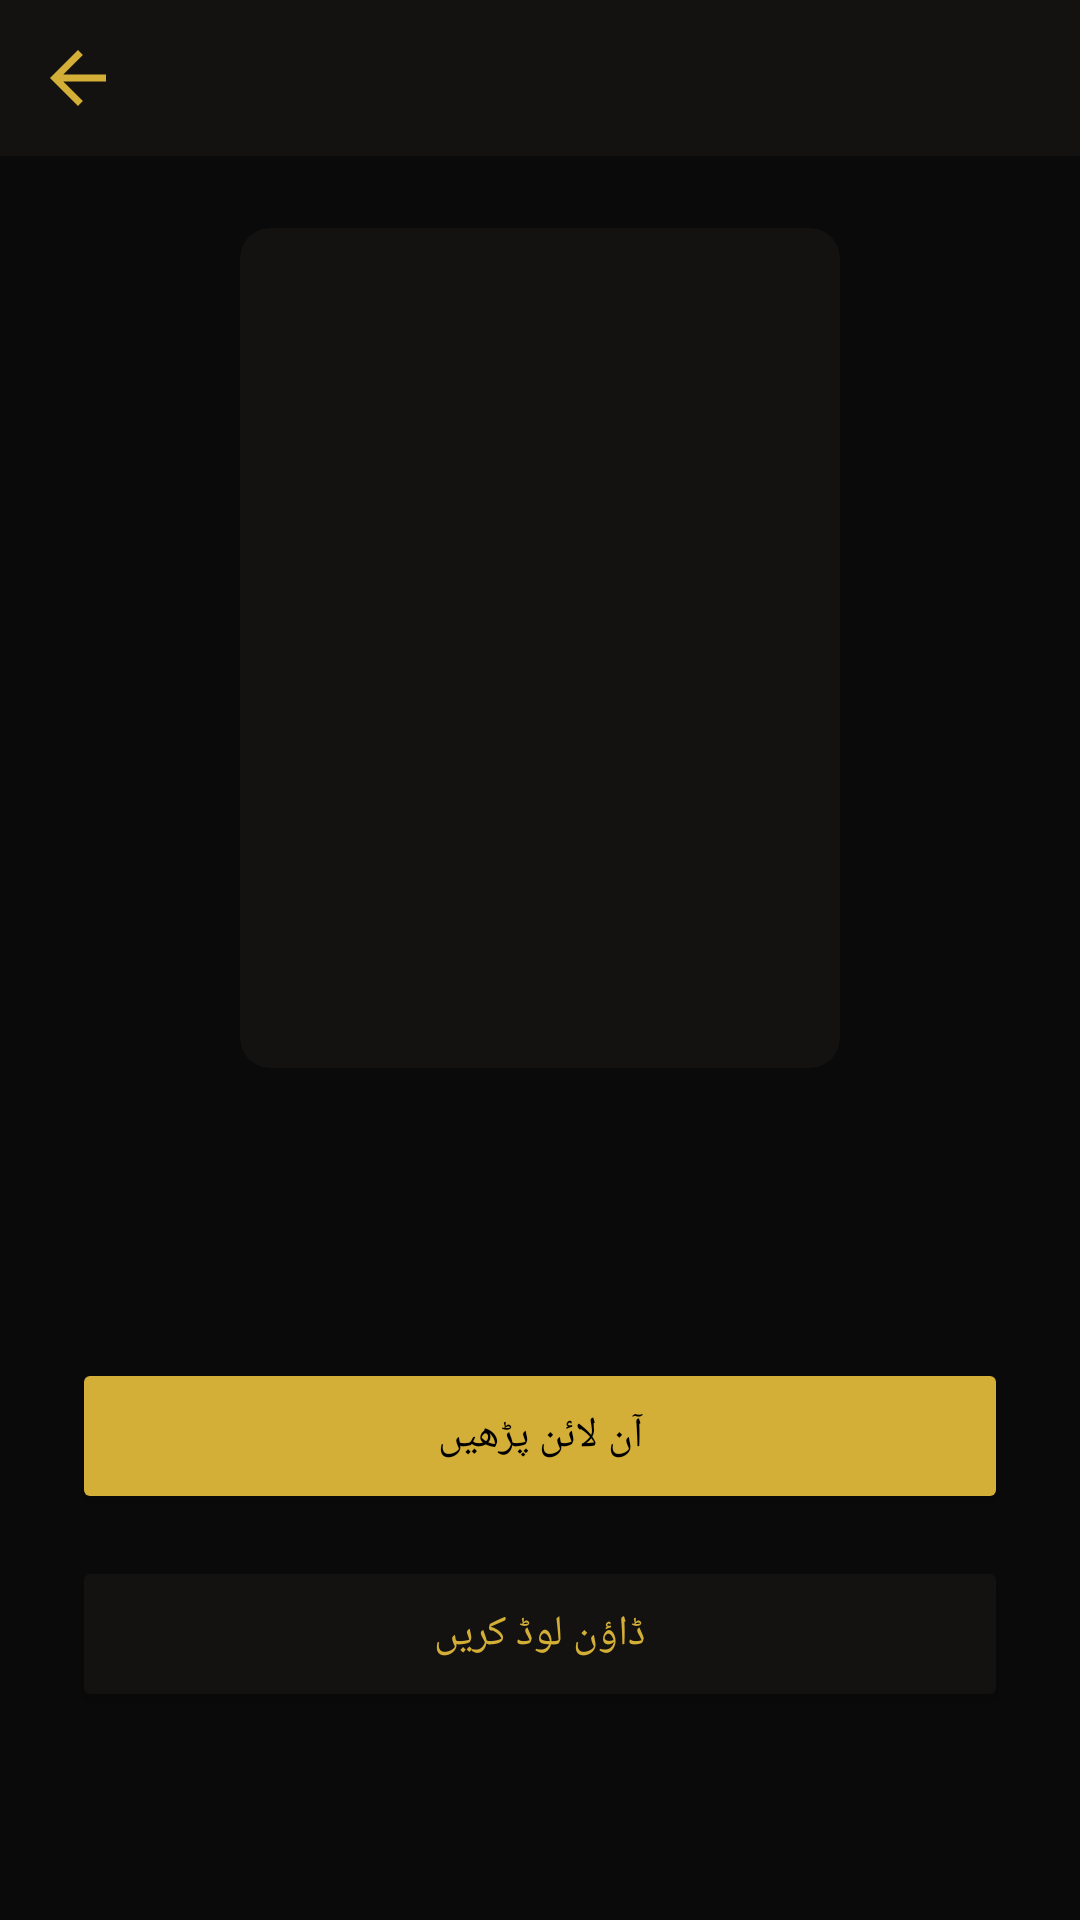

Icons on this 1080w x 1920h Android screen, each with the point to tap as (x,y):
back: (78,78)
